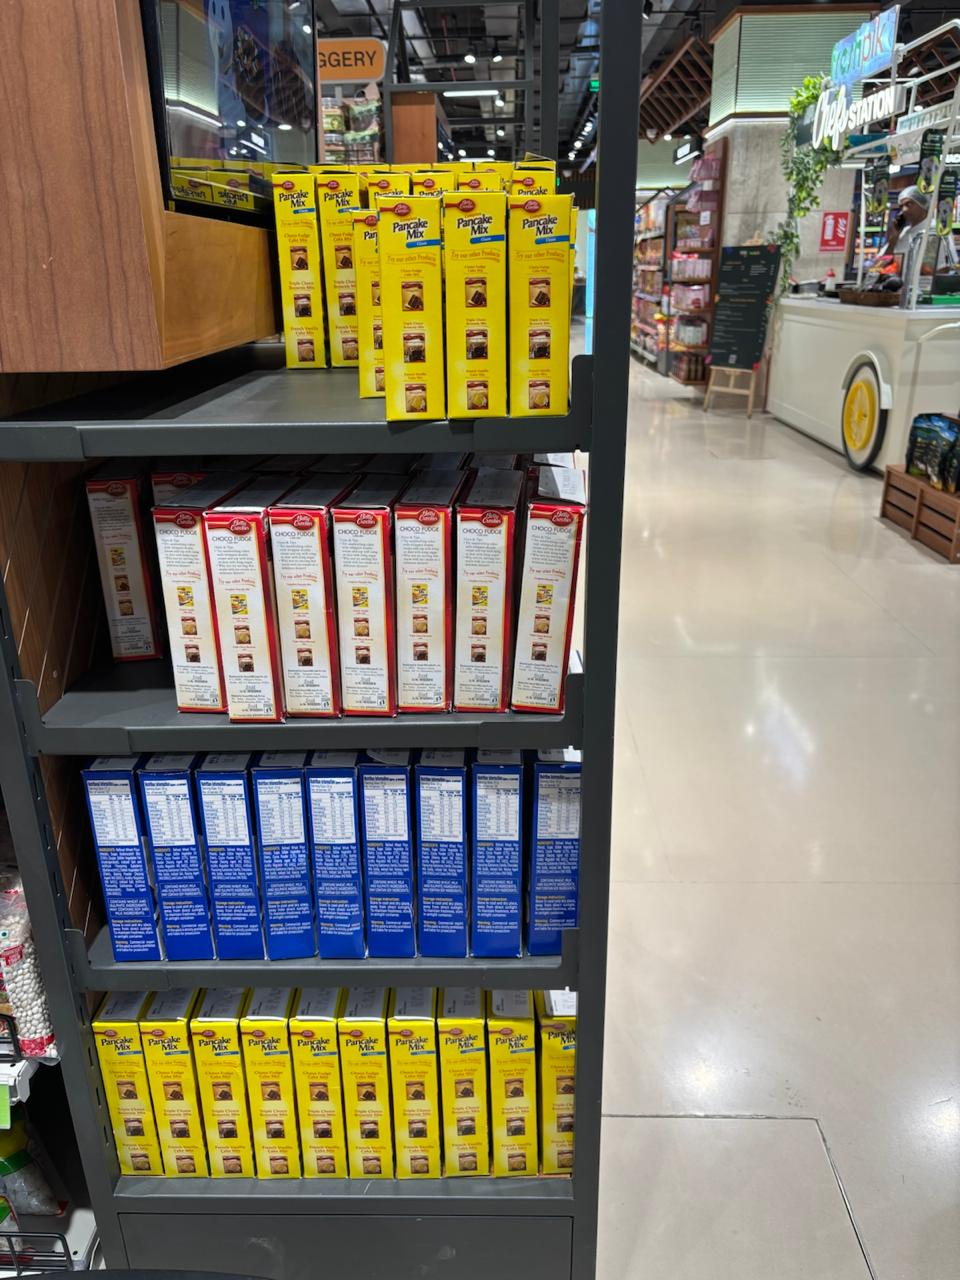Betty Crocker Pancake Mix: (499, 192, 577, 421), (375, 194, 451, 427), (442, 190, 509, 418), (90, 1018, 162, 1192), (266, 170, 328, 372), (139, 1018, 212, 1186), (187, 1016, 256, 1186), (335, 1017, 400, 1190), (286, 1014, 351, 1185), (436, 1014, 502, 1182), (481, 1014, 546, 1184), (383, 1014, 446, 1186), (239, 1017, 301, 1184), (317, 164, 364, 367), (538, 1012, 585, 1189)
